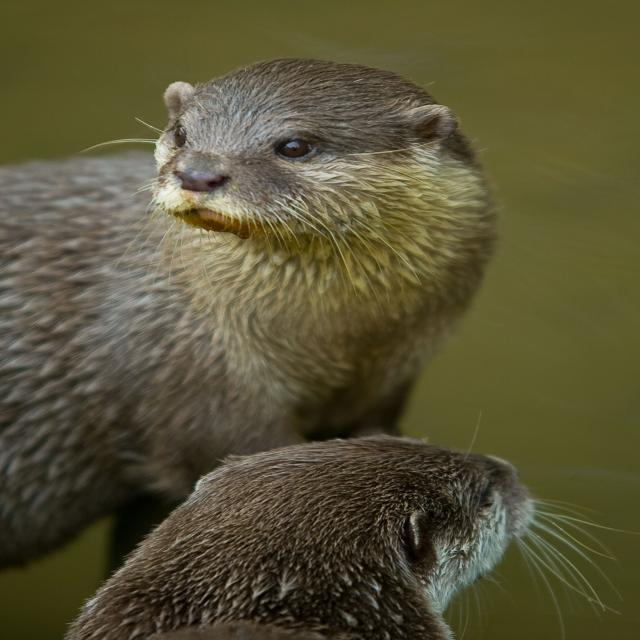otter: (1, 60, 497, 570), (71, 437, 536, 640)
